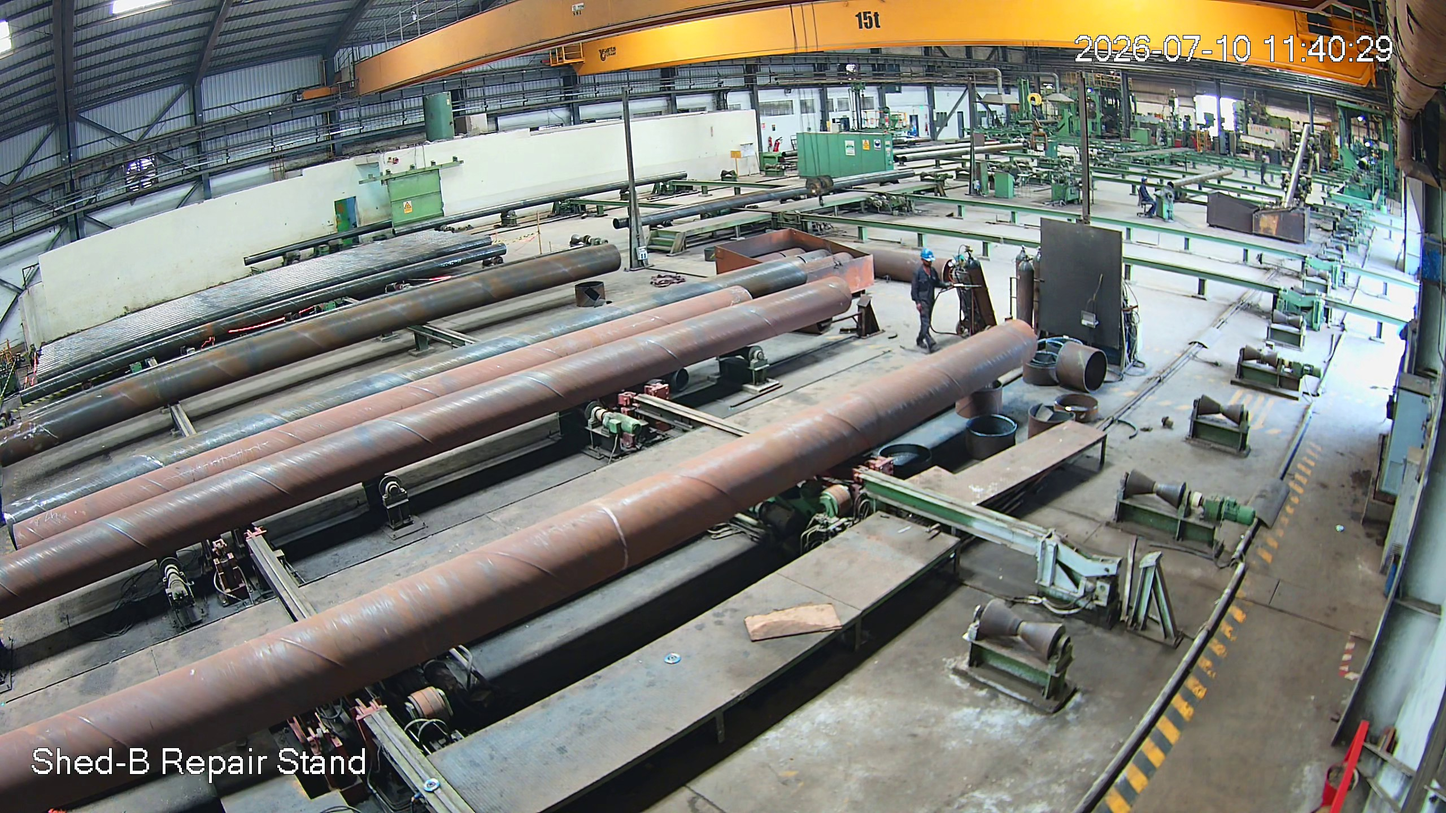Helmet: (915, 244, 940, 279), (1136, 172, 1153, 191)
Person: (905, 248, 953, 358), (1132, 175, 1161, 222)
